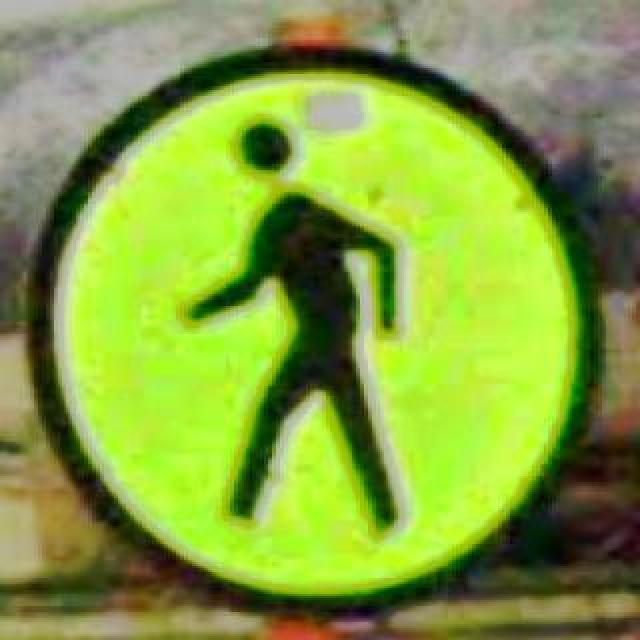pedestrian crossing: (22, 34, 598, 618)
